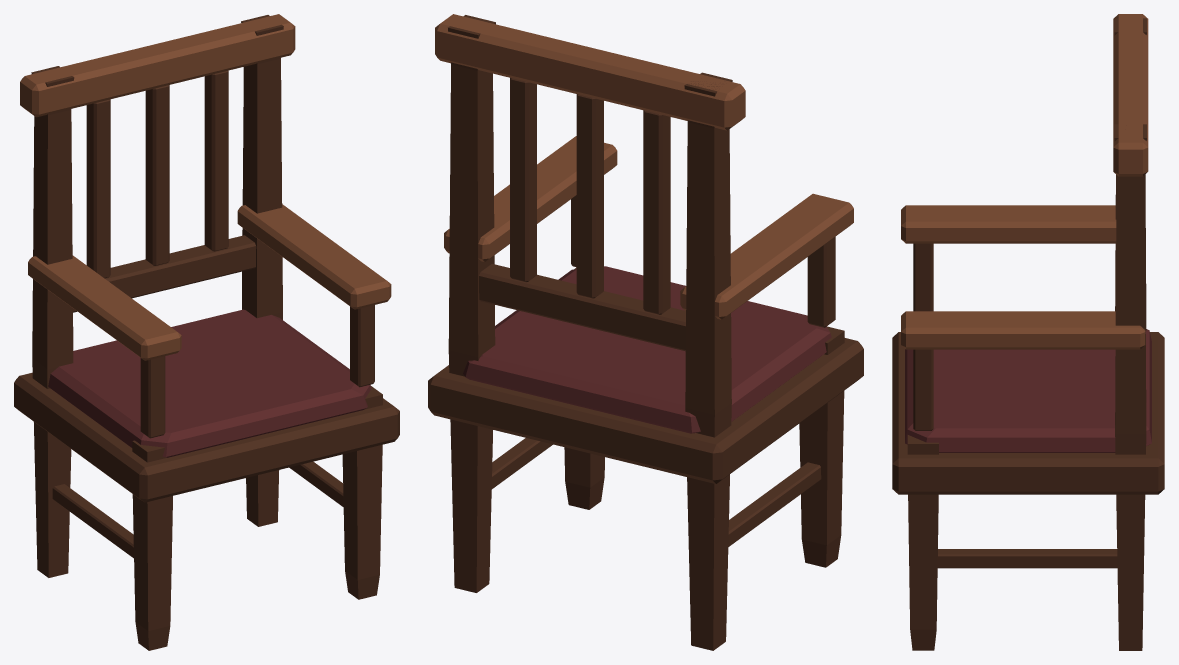
Rendered from study_armchair.glb.
3 views of the same model, side by side, from view 1: azimuth 30°, elevation 25°; view 2: azimuth 150°, elevation 25°; view 3: azimuth 270°, elevation 25° (orthographic). The views are drawn at different scales.
Visible parts, largest first — view 1: study_armchair_Seat, study_armchair_SeatFrame, study_armchair_BackPost, study_armchair, study_armchair_BackTopRail, study_armchair_BackPost.001, study_armchair_Arm.001, study_armchair_Arm, study_armchair_FrontLeg, study_armchair_FrontLeg.001, study_armchair_BackLowerRail, study_armchair_ArmSupport (+3 smaller); view 2: study_armchair_Seat, study_armchair_SeatFrame, study_armchair_BackPost, study_armchair_BackPost.001, study_armchair, study_armchair_BackTopRail, study_armchair_BackLowerRail, study_armchair_Arm, study_armchair_FrontLeg, study_armchair_Arm.001, study_armchair_Stretcher, study_armchair_ArmSupport (+2 smaller); view 3: study_armchair_Seat, study_armchair_SeatFrame, study_armchair_BackPost.001, study_armchair_Arm.001, study_armchair_Arm, study_armchair_BackTopRail, study_armchair_FrontLeg.001, study_armchair_Stretcher.001, study_armchair_ArmSupport.001, study_armchair_ArmSupport, study_armchair_BackPost.
Boxes of the visible parts, x1,y1,x2,y2 form: study_armchair_Seat: [48, 309, 371, 457]; study_armchair_SeatFrame: [14, 372, 399, 502]; study_armchair_BackPost: [31, 66, 74, 577]; study_armchair: [86, 70, 228, 278]; study_armchair_BackTopRail: [20, 14, 295, 117]; study_armchair_BackPost.001: [241, 15, 283, 526]; study_armchair_Arm.001: [237, 204, 391, 309]; study_armchair_Arm: [28, 255, 181, 360]; study_armchair_FrontLeg: [132, 440, 172, 650]; study_armchair_FrontLeg.001: [342, 386, 382, 599]; study_armchair_BackLowerRail: [73, 235, 256, 312]; study_armchair_ArmSupport: [140, 356, 165, 438]; study_armchair_Seat: [463, 266, 831, 433]; study_armchair_SeatFrame: [428, 338, 863, 483]; study_armchair_BackPost: [684, 72, 732, 650]; study_armchair_BackPost.001: [448, 15, 495, 592]; study_armchair: [510, 78, 670, 314]; study_armchair_BackTopRail: [435, 14, 745, 130]; study_armchair_BackLowerRail: [479, 263, 685, 351]; study_armchair_Arm: [680, 193, 853, 319]; study_armchair_FrontLeg: [799, 326, 844, 567]; study_armchair_Arm.001: [444, 136, 617, 261]; study_armchair_Stretcher: [728, 462, 821, 546]; study_armchair_ArmSupport: [807, 236, 835, 327]; study_armchair_Seat: [905, 329, 1151, 452]; study_armchair_SeatFrame: [892, 332, 1164, 494]; study_armchair_BackPost.001: [1114, 124, 1146, 650]; study_armchair_Arm.001: [901, 311, 1145, 349]; study_armchair_Arm: [901, 205, 1116, 243]; study_armchair_BackTopRail: [1113, 14, 1148, 176]; study_armchair_FrontLeg.001: [907, 435, 938, 650]; study_armchair_Stretcher.001: [937, 549, 1117, 568]; study_armchair_ArmSupport.001: [913, 349, 933, 430]; study_armchair_ArmSupport: [913, 243, 933, 311]; study_armchair_BackPost: [1114, 18, 1146, 330].
Bounding box in the file's own units: 0.588 × 1.06 × 0.5088.
